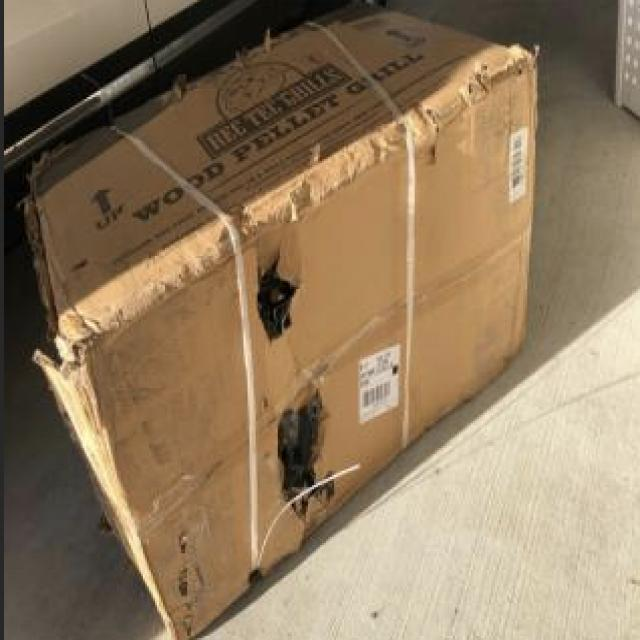hole: (273, 397, 333, 523), (239, 253, 301, 348)
